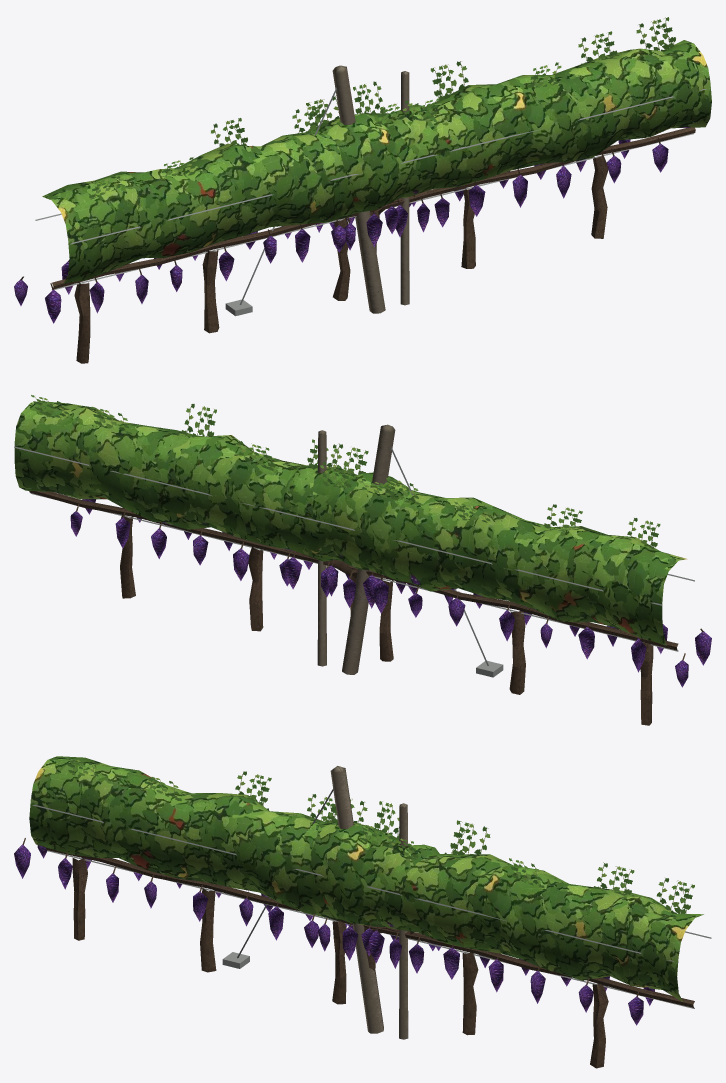
File: vines.glb
The picture shows the model from 3 angles, top to bottom: view 1: azimuth 30°, elevation 25°; view 2: azimuth 150°, elevation 25°; view 3: azimuth 330°, elevation 25°; orthographic projection.
Visible parts, largest first — view 1: vine_row_6m, vine_plant, vine_post; view 2: vine_row_6m, vine_plant, vine_post; view 3: vine_row_6m, vine_plant, vine_post.
Boxes of the visible parts, x1,y1,x2,y2 form: vine_row_6m: [14, 17, 711, 363]; vine_plant: [306, 81, 439, 292]; vine_post: [225, 65, 465, 316]; vine_row_6m: [14, 395, 711, 725]; vine_plant: [284, 439, 416, 620]; vine_post: [342, 424, 503, 677]; vine_row_6m: [14, 756, 711, 1068]; vine_plant: [304, 799, 439, 1011]; vine_post: [222, 766, 430, 1033].
Size of the model in its own units: 6.22 by 2.27 by 0.6053.
Materials: 2 (2 with a texture image).
